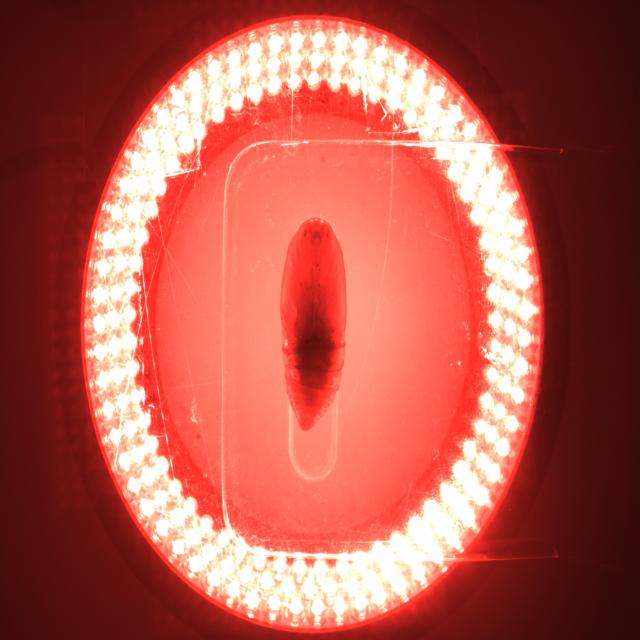female: (306, 403, 314, 412)
